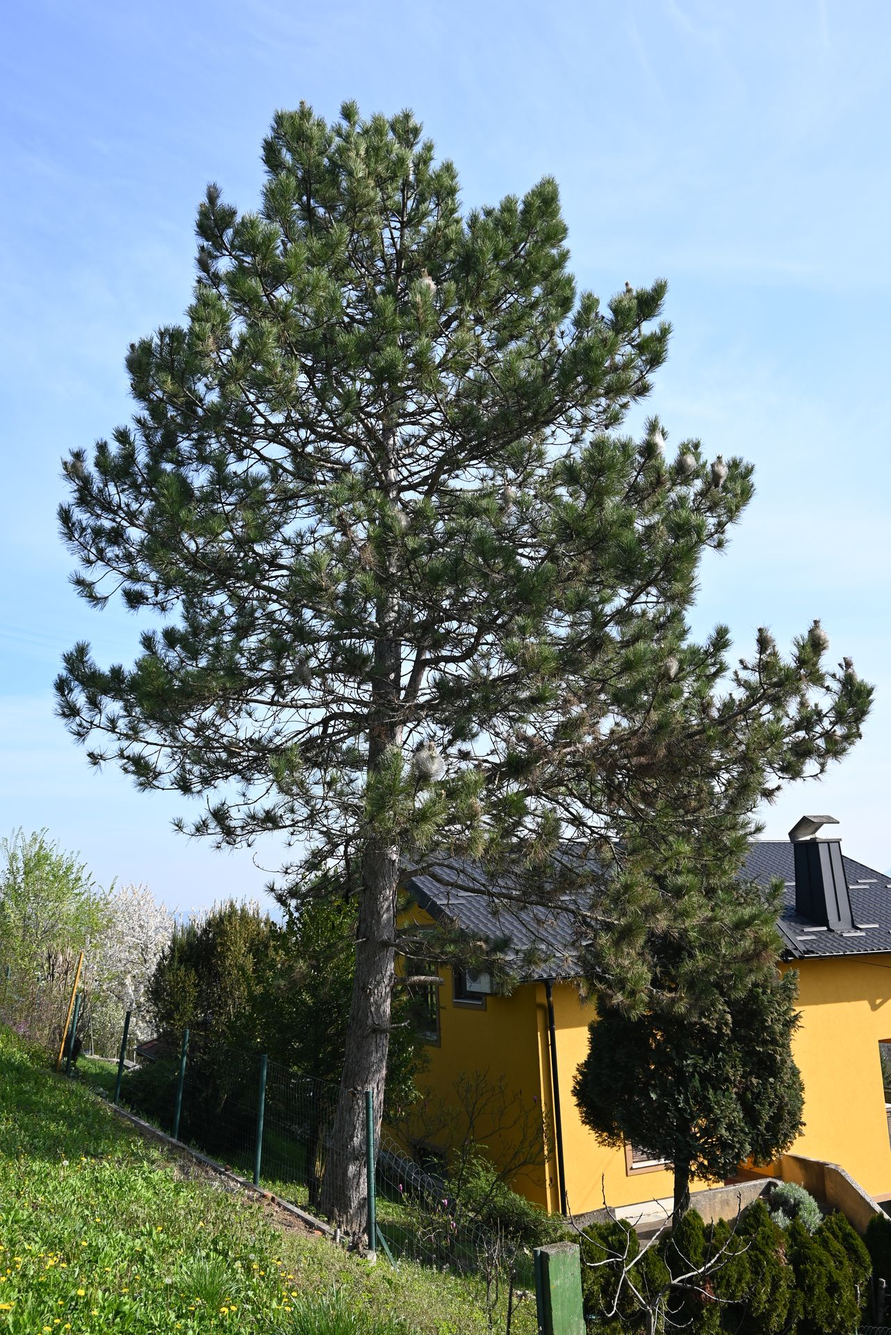thaumatopoea pityocampa jajno gnijezdo: (411, 270, 442, 304), (749, 627, 780, 658), (415, 746, 442, 781), (678, 445, 697, 482), (805, 617, 824, 654), (709, 458, 732, 485), (645, 426, 666, 448)
